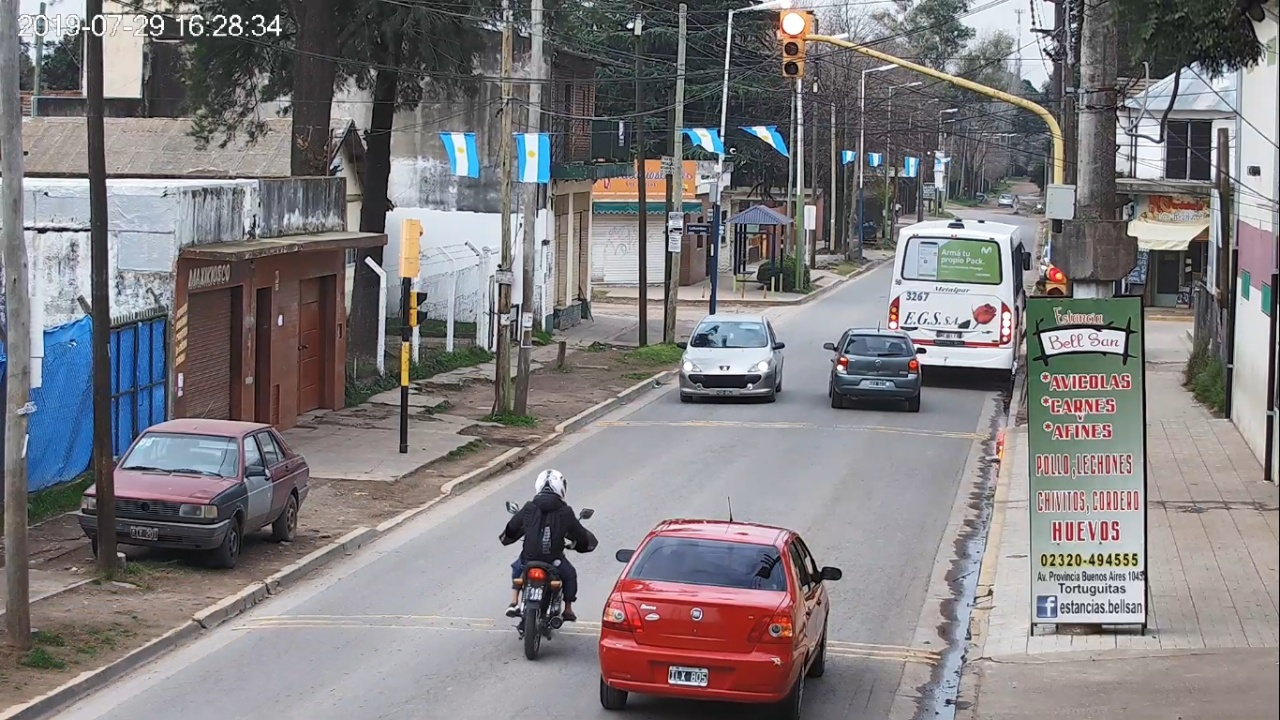car: (599, 519, 843, 720), (823, 328, 927, 412)
front car: (677, 315, 786, 402)
motorcycle: (498, 501, 599, 661)
traffic light: (782, 10, 804, 77)
